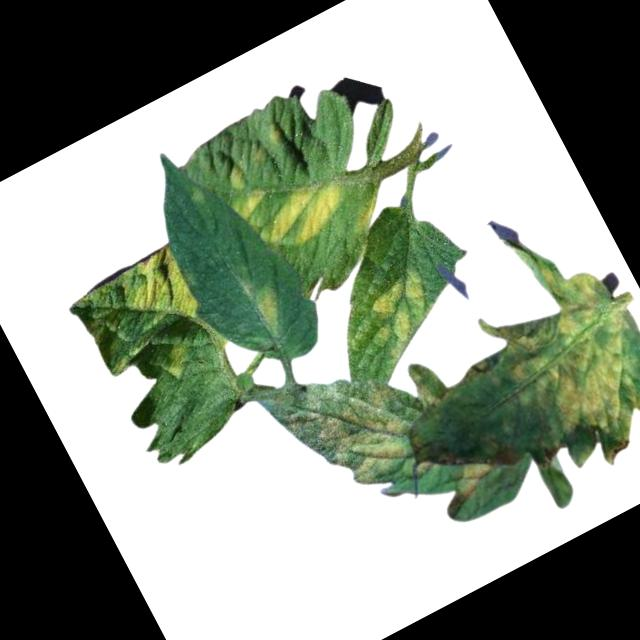Leaf_Mold: (468, 244, 640, 469), (286, 363, 428, 502), (352, 260, 456, 366), (108, 239, 205, 342), (257, 172, 357, 257), (211, 156, 274, 225), (401, 353, 452, 412), (447, 449, 501, 500), (245, 281, 292, 338), (156, 338, 200, 385)
